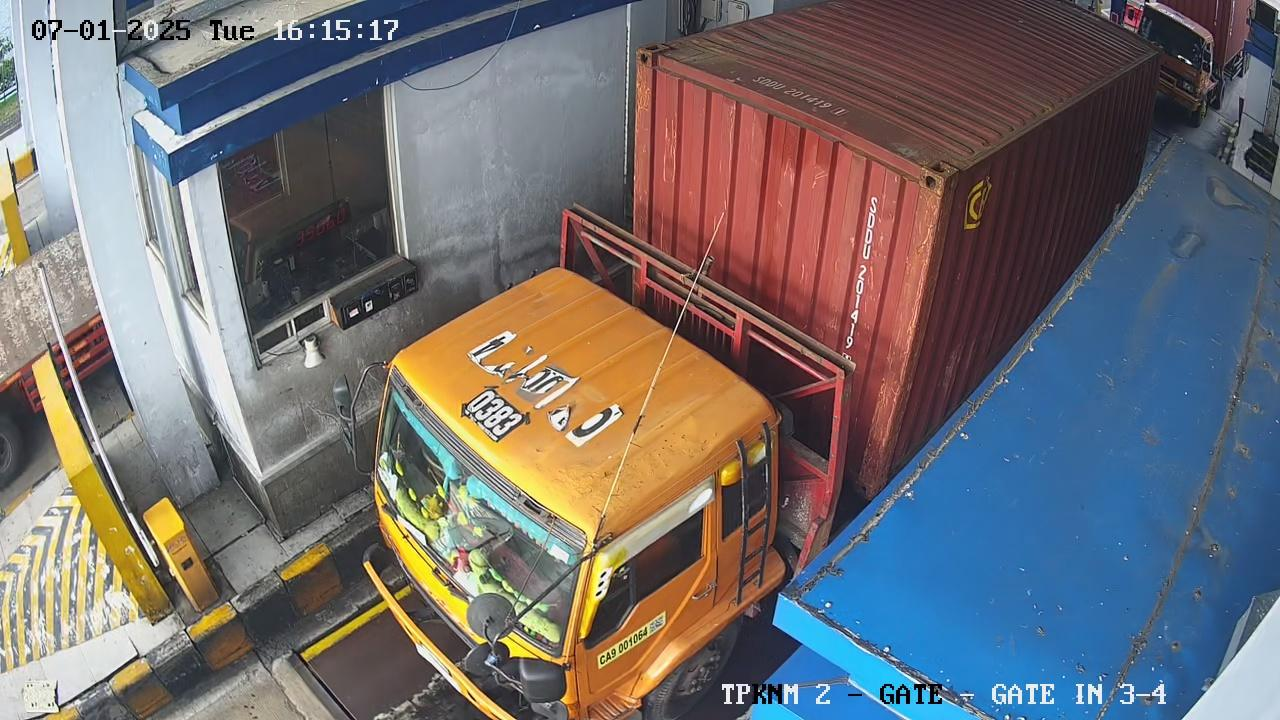Container_ID: (734, 64, 849, 124)
Container_ID_Vertikal: (840, 189, 882, 364)
truck_id: (596, 612, 669, 669), (462, 387, 530, 446)
